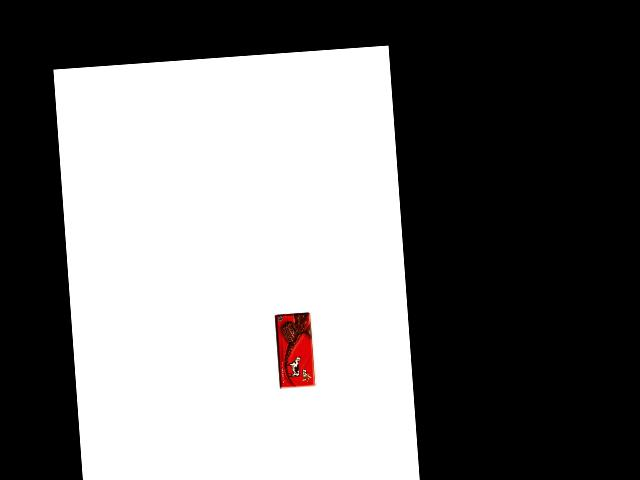chocolate: (280, 309, 322, 381)
